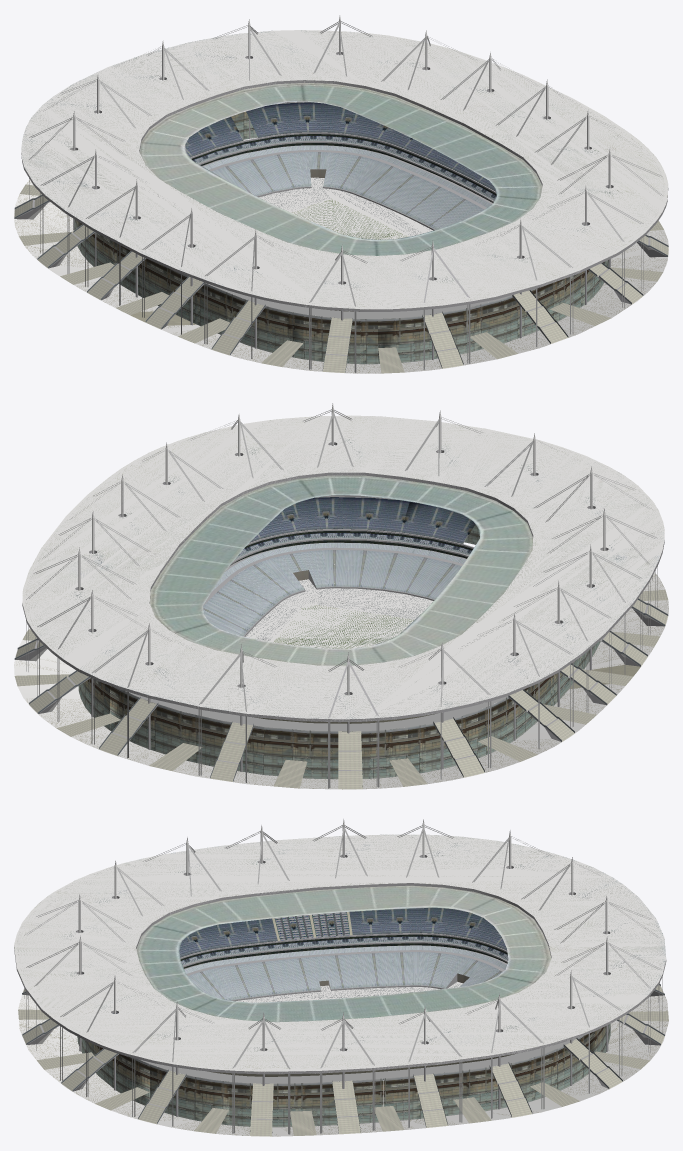
Rendered from stade_de_france_v2.glb.
The picture shows the model from 3 angles, top to bottom: view 1: azimuth 30°, elevation 25°; view 2: azimuth 150°, elevation 25°; view 3: azimuth 270°, elevation 25°; orthographic projection. The views are drawn at different scales.
Parts seen in each view (by area): view 1: instance_0.394, instance_0.328, instance_88, instance_0.404, instance_0.059, instance_44, instance_0.393, instance_85, instance_0.280, instance_0.330, instance_87, instance_0.376 (+17 smaller); view 2: instance_0.394, instance_0.328, instance_0.404, instance_85, instance_0.059, instance_86, instance_45, instance_0.280, instance_0.393, instance_0.376, instance_0.330, instance_46 (+10 smaller); view 3: instance_0.394, instance_0.328, instance_0.059, instance_87, instance_0.404, instance_86, instance_0.376, instance_0.330, instance_0.393, instance_0.368, instance_43.001, instance_46.001 (+23 smaller).
Boxes of the visible parts, x1,y1,x2,y2 form: instance_0.394: (21,30,668,309); instance_0.328: (139,82,542,255); instance_88: (168,268,504,364); instance_0.404: (14,150,668,373); instance_0.059: (211,152,484,229); instance_44: (192,102,321,151); instance_0.393: (257,177,434,280); instance_85: (74,219,168,305); instance_0.280: (291,198,408,284); instance_0.330: (21,153,668,311); instance_87: (537,260,608,331); instance_0.376: (201,281,515,318); instance_0.394: (22,415,664,719); instance_0.328: (150,475,532,665); instance_0.404: (14,572,668,789); instance_85: (264,673,568,779); instance_0.059: (203,550,461,684); instance_86: (78,678,222,766); instance_45: (276,497,427,534); instance_0.280: (273,603,414,695); instance_0.393: (245,579,433,642); instance_0.376: (126,691,507,731); instance_0.330: (22,540,664,722); instance_46: (417,505,475,543); instance_0.394: (14,834,666,1071); instance_0.328: (136,885,551,1022); instance_0.059: (175,952,502,1040); instance_87: (85,1040,382,1127); instance_0.404: (18,934,668,1136); instance_86: (383,1024,610,1120); instance_0.376: (82,974,608,1083); instance_0.330: (14,947,666,1074); instance_0.393: (236,981,462,1002); instance_0.368: (136,883,551,973); instance_43.001: (359,908,410,934); instance_46.001: (214,919,268,947).
Size of the model in its own units: 286 by 64.22 by 328.
48 materials, 46 textured.
